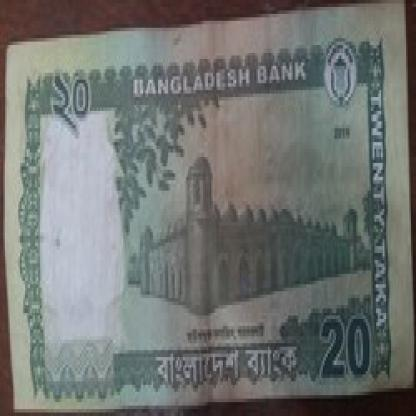Twenty: (313, 305, 376, 385), (48, 73, 113, 135)
